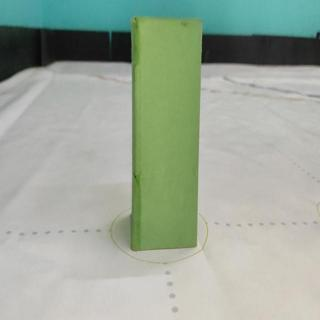greenbox: (129, 15, 200, 250)
